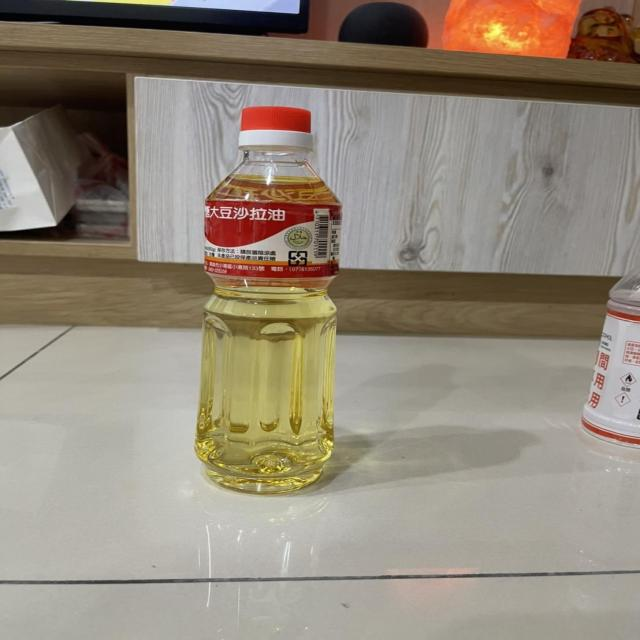bottle: (183, 97, 354, 504)
